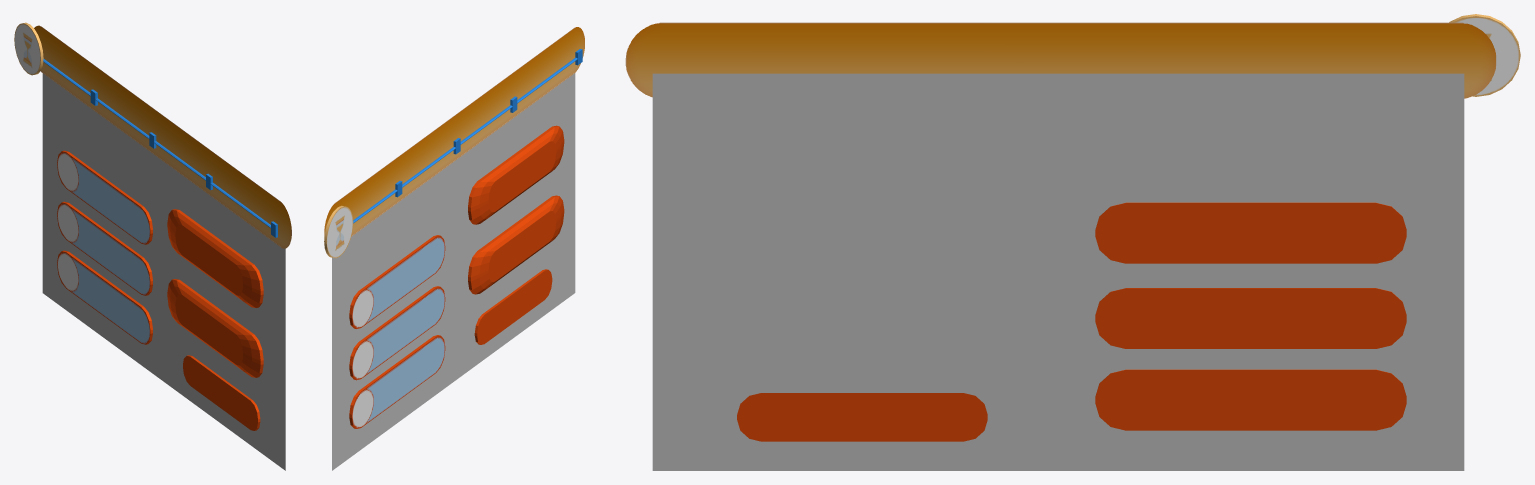
File: menu_redesign_2.fbx
3 renders of one model, left to right at view 1: azimuth 30°, elevation 25°; view 2: azimuth 150°, elevation 25°; view 3: azimuth 270°, elevation 25°, orthographic. The views are drawn at different scales.
Parts seen in each view (by area): view 1: naked_menu, time_slider, puffy_button_1, puffy_button_2, flat_round_button_blue_1, Blue_button_2, Blue_button_3, Blue_button_4, pCylinder1, time_bar; view 2: naked_menu, time_slider, puffy_button_2, puffy_button_1, Blue_button_2, Blue_button_3, flat_round_button_blue_1, Blue_button_4, pCylinder1, time_bar; view 3: naked_menu, time_slider, flat_round_button_blue_1, Blue_button_3, Blue_button_2, Blue_button_4, pCylinder1.
Boxes of the visible parts, left/top/right/bottom form: naked_menu: left=42, top=73, right=285, bottom=470; time_slider: left=34, top=25, right=291, bottom=248; puffy_button_1: left=167, top=209, right=263, bottom=307; puffy_button_2: left=167, top=279, right=263, bottom=377; flat_round_button_blue_1: left=57, top=150, right=152, bottom=244; Blue_button_2: left=57, top=201, right=152, bottom=295; Blue_button_3: left=57, top=250, right=152, bottom=344; Blue_button_4: left=183, top=355, right=260, bottom=430; pCylinder1: left=14, top=22, right=43, bottom=75; time_bar: left=43, top=59, right=270, bottom=227; naked_menu: left=332, top=73, right=575, bottom=470; time_slider: left=324, top=27, right=584, bottom=236; puffy_button_2: left=468, top=195, right=564, bottom=294; puffy_button_1: left=468, top=125, right=564, bottom=224; Blue_button_2: left=349, top=286, right=445, bottom=380; Blue_button_3: left=349, top=335, right=445, bottom=428; flat_round_button_blue_1: left=349, top=235, right=445, bottom=328; Blue_button_4: left=474, top=269, right=552, bottom=344; pCylinder1: left=324, top=205, right=353, bottom=258; time_bar: left=353, top=57, right=577, bottom=223; naked_menu: left=652, top=73, right=1464, bottom=470; time_slider: left=625, top=22, right=1496, bottom=98; flat_round_button_blue_1: left=1095, top=202, right=1406, bottom=263; Blue_button_3: left=1095, top=369, right=1406, bottom=430; Blue_button_2: left=1095, top=288, right=1406, bottom=348; Blue_button_4: left=737, top=393, right=987, bottom=441; pCylinder1: left=1449, top=14, right=1520, bottom=96.
Size of the model in its own units: 0.5227 by 11.21 by 20.26.
